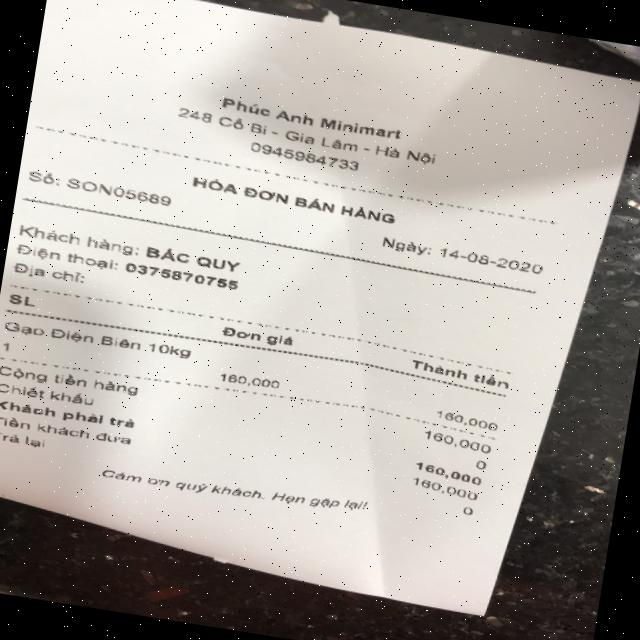Date: (440, 246, 547, 278)
Store_Name: (212, 88, 413, 145)
amount_number: (412, 459, 493, 490)
label_total: (0, 396, 146, 435)
